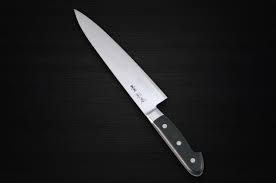Knife: (72, 8, 204, 177)
